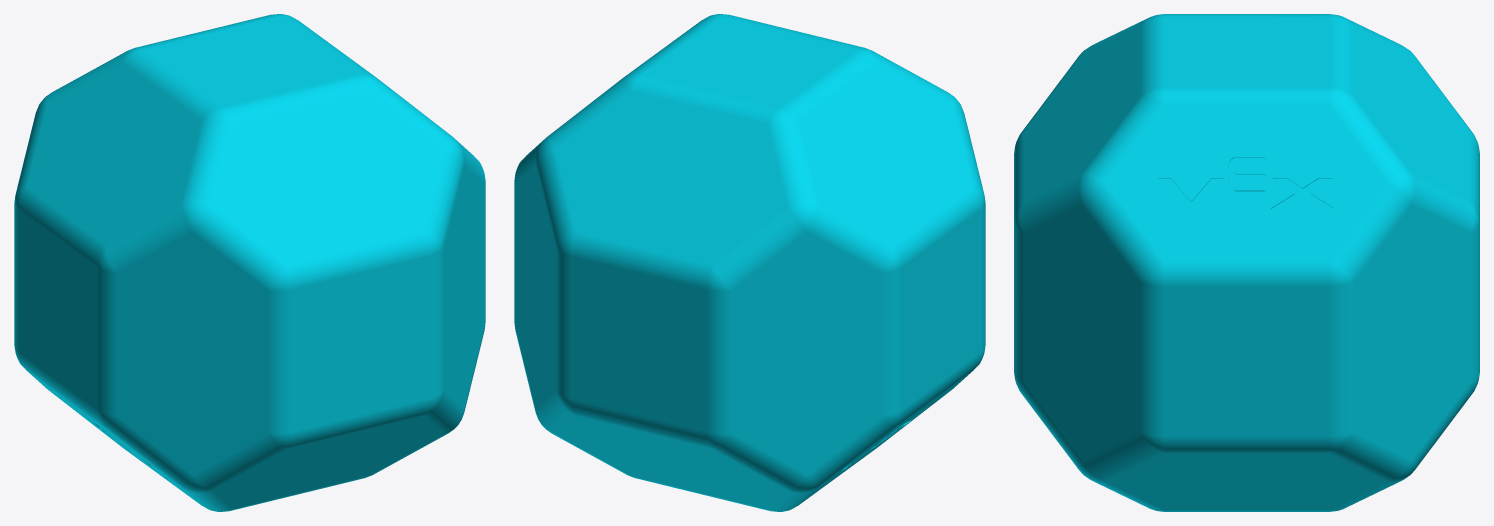
The model's file is vex-ball-blue-cd.dae.
3 renders of one model, left to right at view 1: azimuth 30°, elevation 25°; view 2: azimuth 150°, elevation 25°; view 3: azimuth 270°, elevation 25°, orthographic. The views are drawn at different scales.
Parts seen in each view (by area): view 1: vex_pb_ball_b; view 2: vex_pb_ball_b; view 3: vex_pb_ball_b.
Part boxes in pixels (x1,y1,x2,y2): vex_pb_ball_b: (14,14,485,511); vex_pb_ball_b: (514,14,985,511); vex_pb_ball_b: (1014,14,1479,511).
Bounding box in the file's own units: 0.082 × 0.082 × 0.082.
